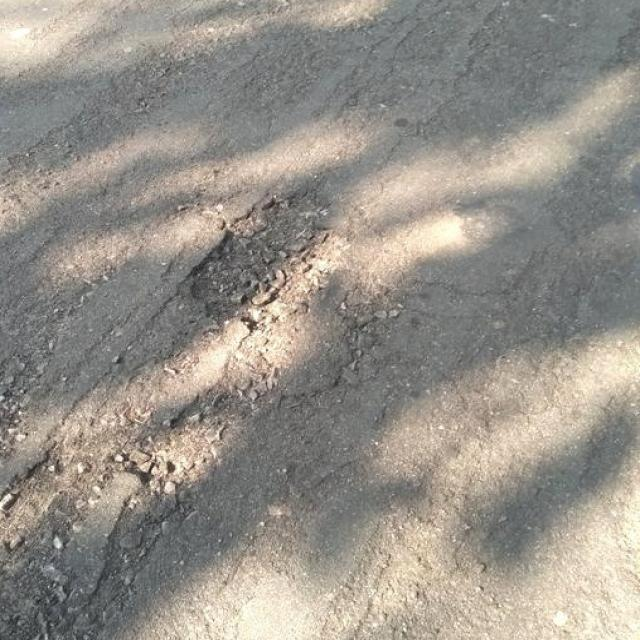road-pothole: (0, 187, 412, 639)
